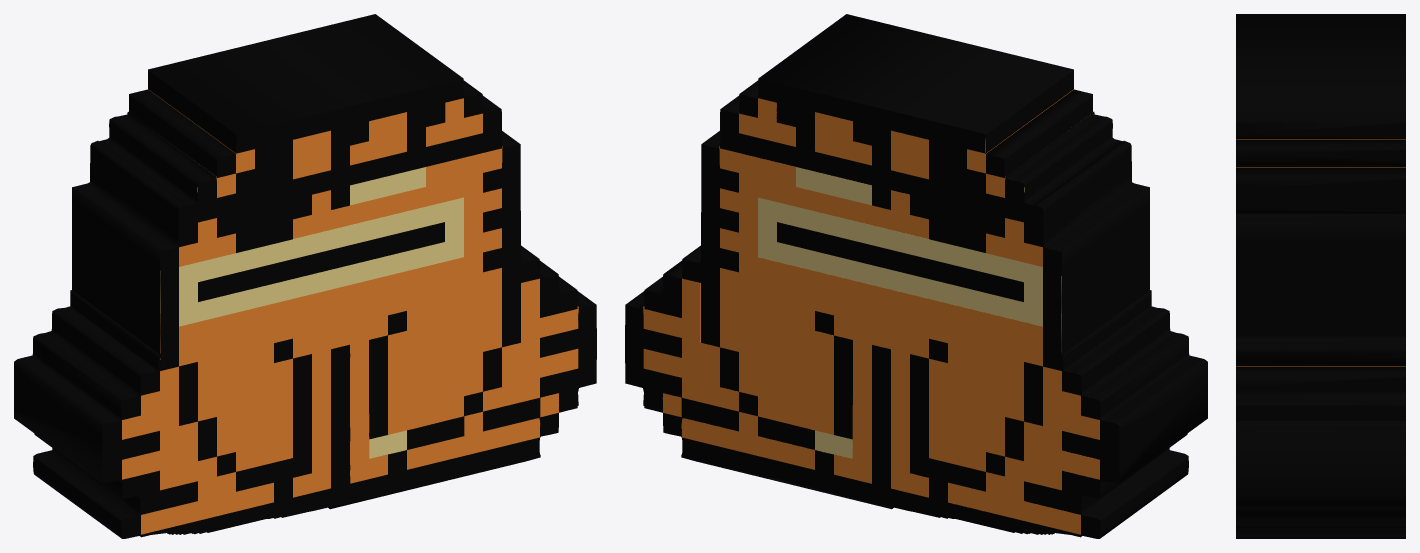
Rendered from Toadz_2673.glb.
3 views of the same model, side by side, from view 1: azimuth 30°, elevation 25°; view 2: azimuth 150°, elevation 25°; view 3: azimuth 270°, elevation 25° (orthographic). The views are drawn at different scales.
Parts seen in each view (by area): view 1: Curve; view 2: Curve; view 3: Curve.
Boxes of the visible parts, x1,y1,x2,y2 form: Curve: (14, 14, 596, 538); Curve: (625, 14, 1207, 538); Curve: (1236, 14, 1405, 538).
Size of the model in its own units: 3.24 by 2.49 by 1.
